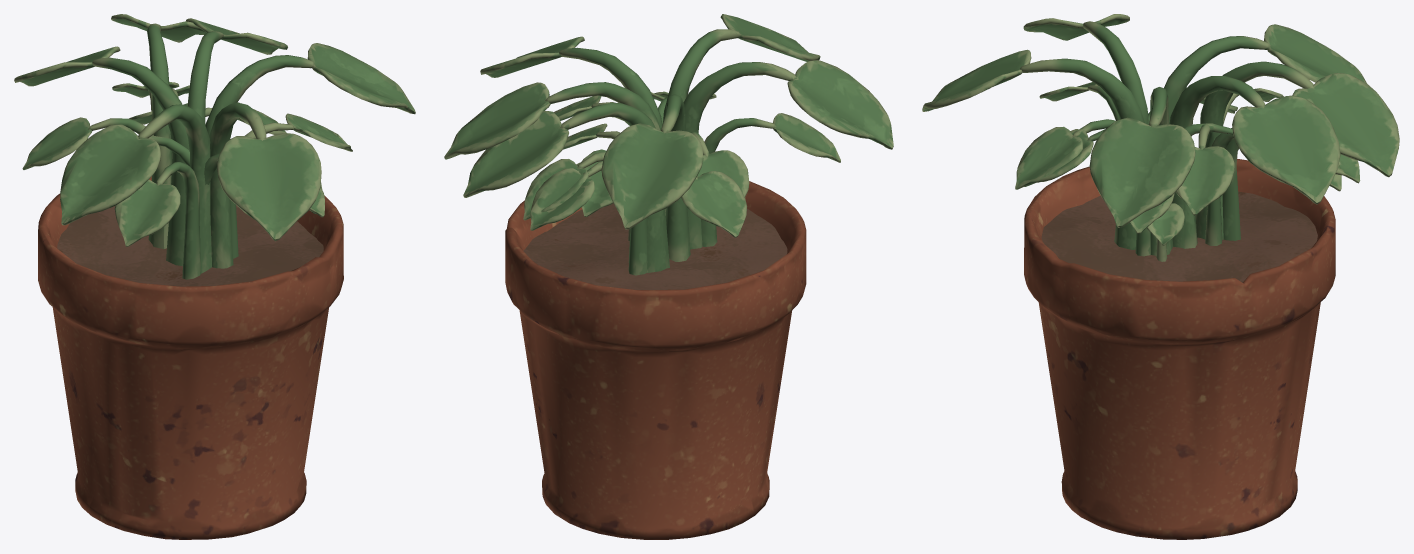
Rendered from plant5.glb.
3 views of the same model, side by side, from view 1: azimuth 30°, elevation 25°; view 2: azimuth 150°, elevation 25°; view 3: azimuth 270°, elevation 25° (orthographic). The views are drawn at different scales.
Parts seen in each view (by area): view 1: Pot_Lp, Plant_Lp, Dirt_Lp; view 2: Pot_Lp, Plant_Lp, Dirt_Lp; view 3: Pot_Lp, Plant_Lp, Dirt_Lp.
Part boxes in pixels (x1=…): Pot_Lp: x1=38, y1=176, x2=343, y2=539; Plant_Lp: x1=14, y1=14, x2=415, y2=279; Dirt_Lp: x1=57, y1=205, x2=323, y2=286; Pot_Lp: x1=505, y1=181, x2=806, y2=539; Plant_Lp: x1=444, y1=14, x2=893, y2=275; Dirt_Lp: x1=523, y1=203, x2=787, y2=289; Pot_Lp: x1=1024, y1=158, x2=1335, y2=539; Plant_Lp: x1=922, y1=14, x2=1399, y2=261; Dirt_Lp: x1=1041, y1=191, x2=1317, y2=282.
Size of the model in its own units: 2.91 by 3.11 by 3.1.
Materials: 1 (1 with a texture image).
